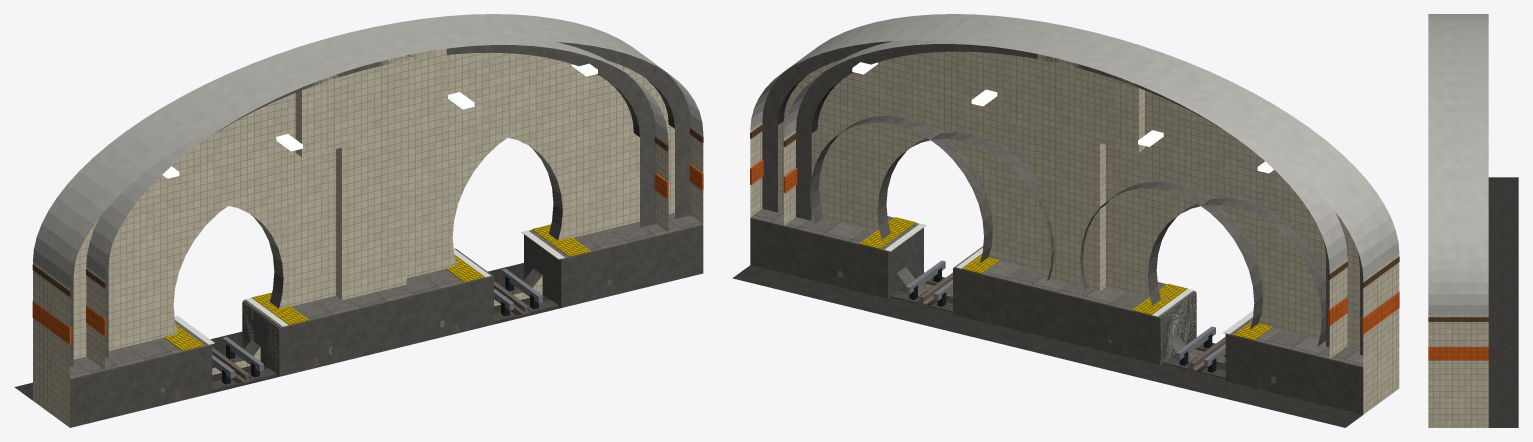
Rendered from tunnel_station_vault.glb.
The picture shows the model from 3 angles, left to right: view 1: azimuth 30°, elevation 25°; view 2: azimuth 150°, elevation 25°; view 3: azimuth 270°, elevation 25°; orthographic projection. The views are drawn at different scales.
Visible parts, largest first — view 1: vault_side, vault_island_borewall, vault_side_borewall, vault_island, vault_island_end, vault_side_end; view 2: vault_side, vault_island_borewall, vault_side_borewall, vault_island, vault_side_end, vault_island_end; view 3: vault_side, vault_side_borewall, vault_island_borewall.
Boxes of the visible parts, x1,y1,x2,y2 form: vault_side: (32, 14, 703, 427); vault_island_borewall: (108, 52, 639, 374); vault_side_borewall: (14, 53, 674, 400); vault_island: (86, 41, 668, 400); vault_island_end: (105, 45, 655, 380); vault_side_end: (70, 42, 690, 366); vault_side: (750, 14, 1399, 414); vault_island_borewall: (810, 51, 1329, 419); vault_side_borewall: (732, 52, 1362, 427); vault_island: (783, 40, 1347, 387); vault_side_end: (762, 41, 1363, 355); vault_island_end: (796, 44, 1329, 346); vault_side: (1428, 14, 1488, 427); vault_side_borewall: (1488, 177, 1518, 427); vault_island_borewall: (1488, 191, 1518, 406).
Bounding box in the file's own units: 11.81 × 5.45 × 1.8.
Materials: 18 (12 with a texture image).
